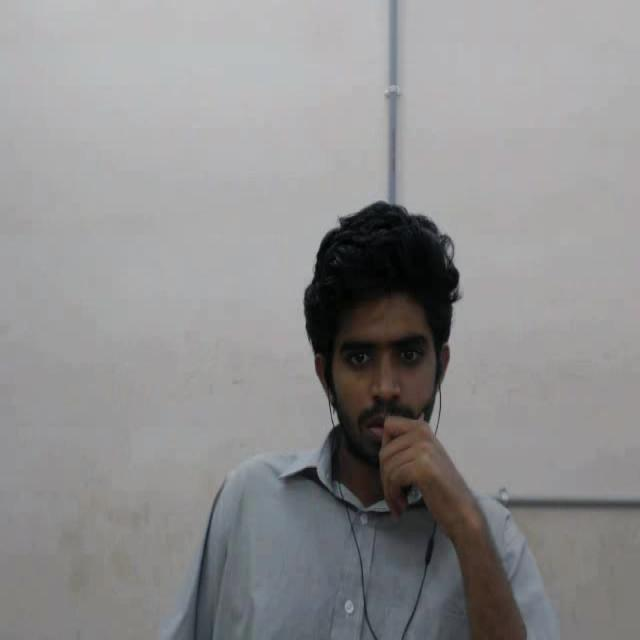Bored: (281, 184, 508, 523)
